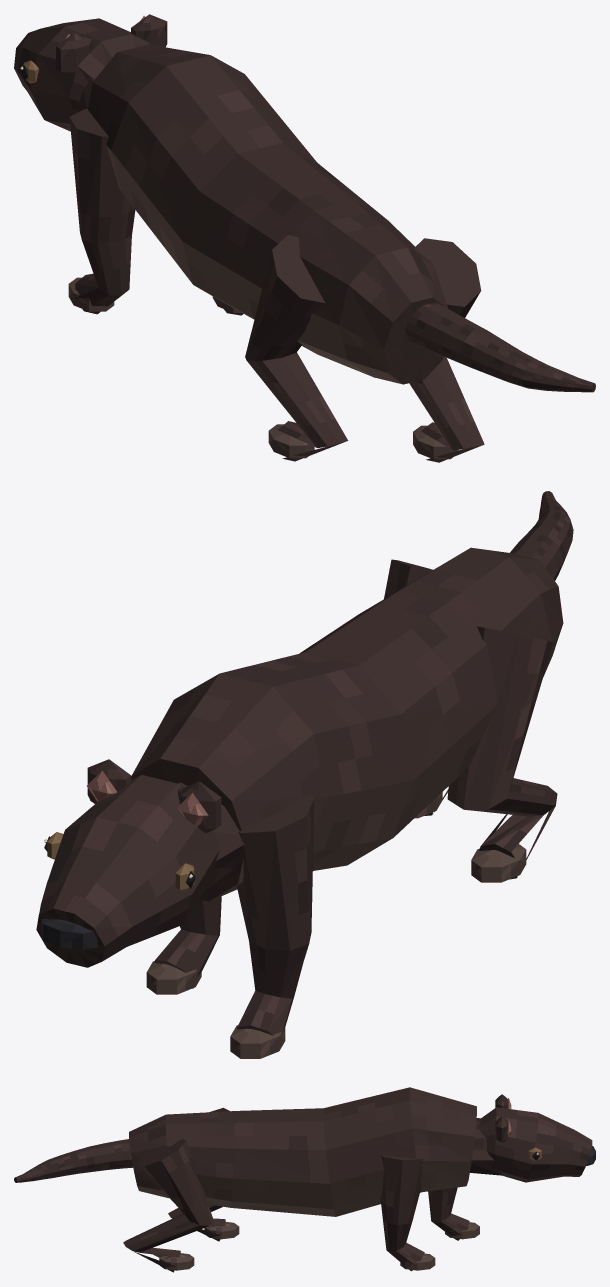
Rendered from mon_mink.glb.
3 views of the same model, one above another, from view 1: azimuth 30°, elevation 25°; view 2: azimuth 150°, elevation 25°; view 3: azimuth 270°, elevation 25° (orthographic). The views are drawn at different scales.
Visible parts, largest first — view 1: closed_body; view 2: closed_body; view 3: closed_body.
Part boxes in pixels (x1=…): closed_body: x1=14, y1=14, x2=595, y2=462; closed_body: x1=36, y1=491, x2=573, y2=1058; closed_body: x1=14, y1=1087, x2=595, y2=1272.
Bounding box in the file's own units: 0.0971 × 0.1554 × 0.5033.
1 material, 1 textured.
